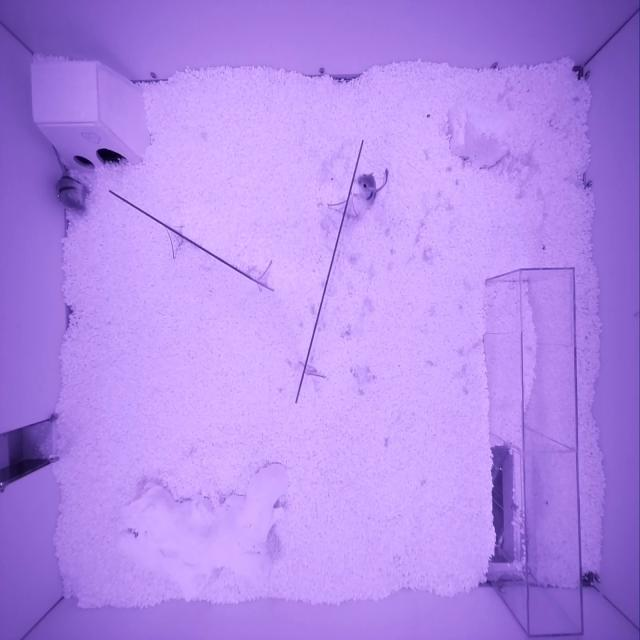pup_h_stripe: (56, 174, 84, 210)
pup_spotted: (356, 172, 376, 210)
